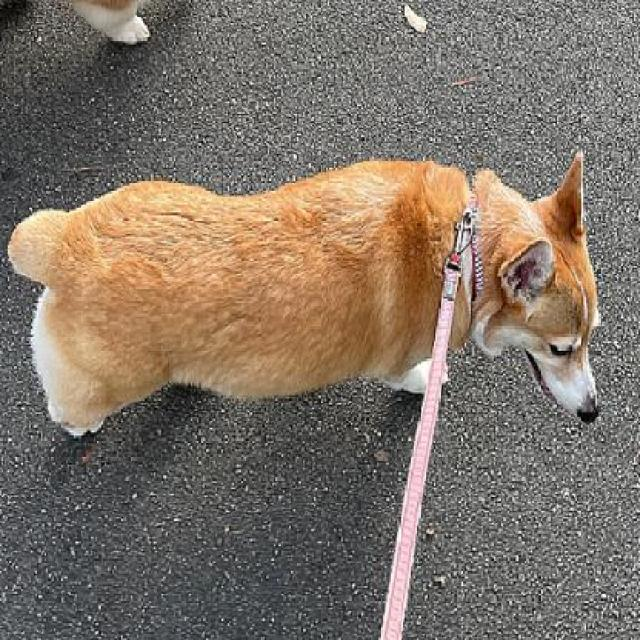Dog: (8, 152, 608, 440)
